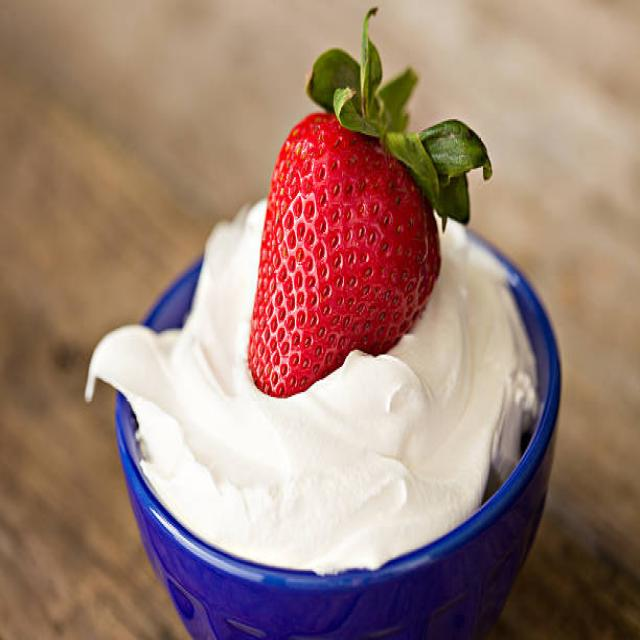Healthy Fruit: (247, 111, 442, 398)
